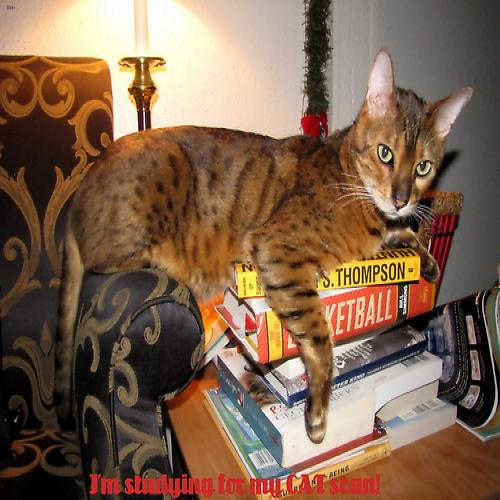cat-face: (346, 47, 465, 230)
